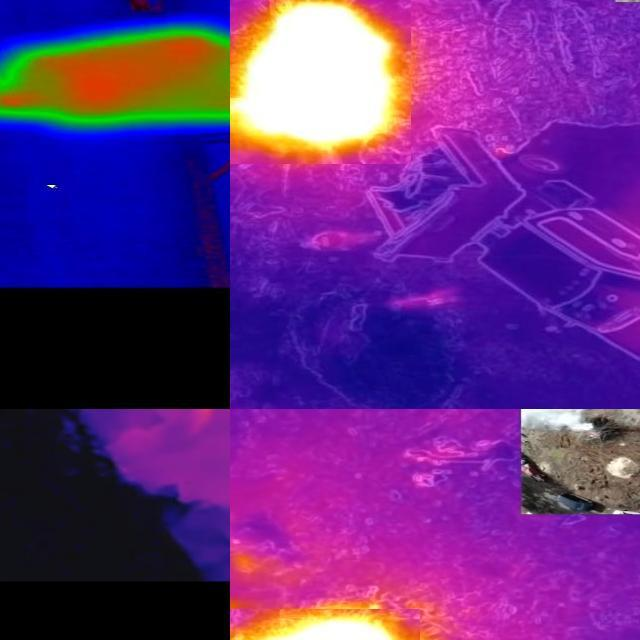fire: (231, 1, 412, 164), (231, 609, 421, 640)
